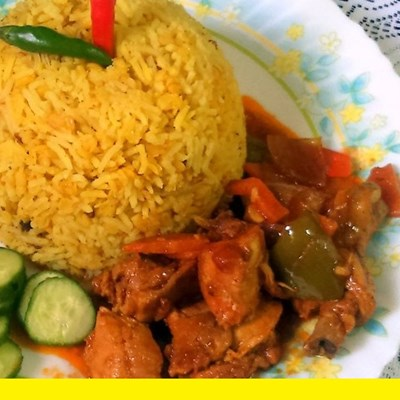khichuri: (5, 7, 246, 256)
